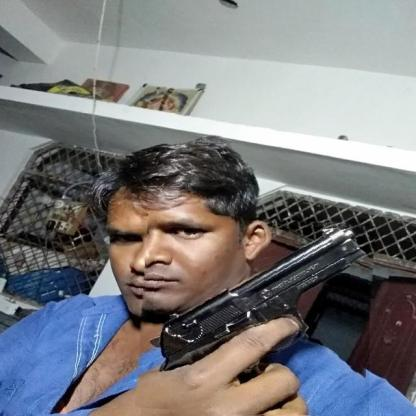handgun: (138, 214, 372, 416)
